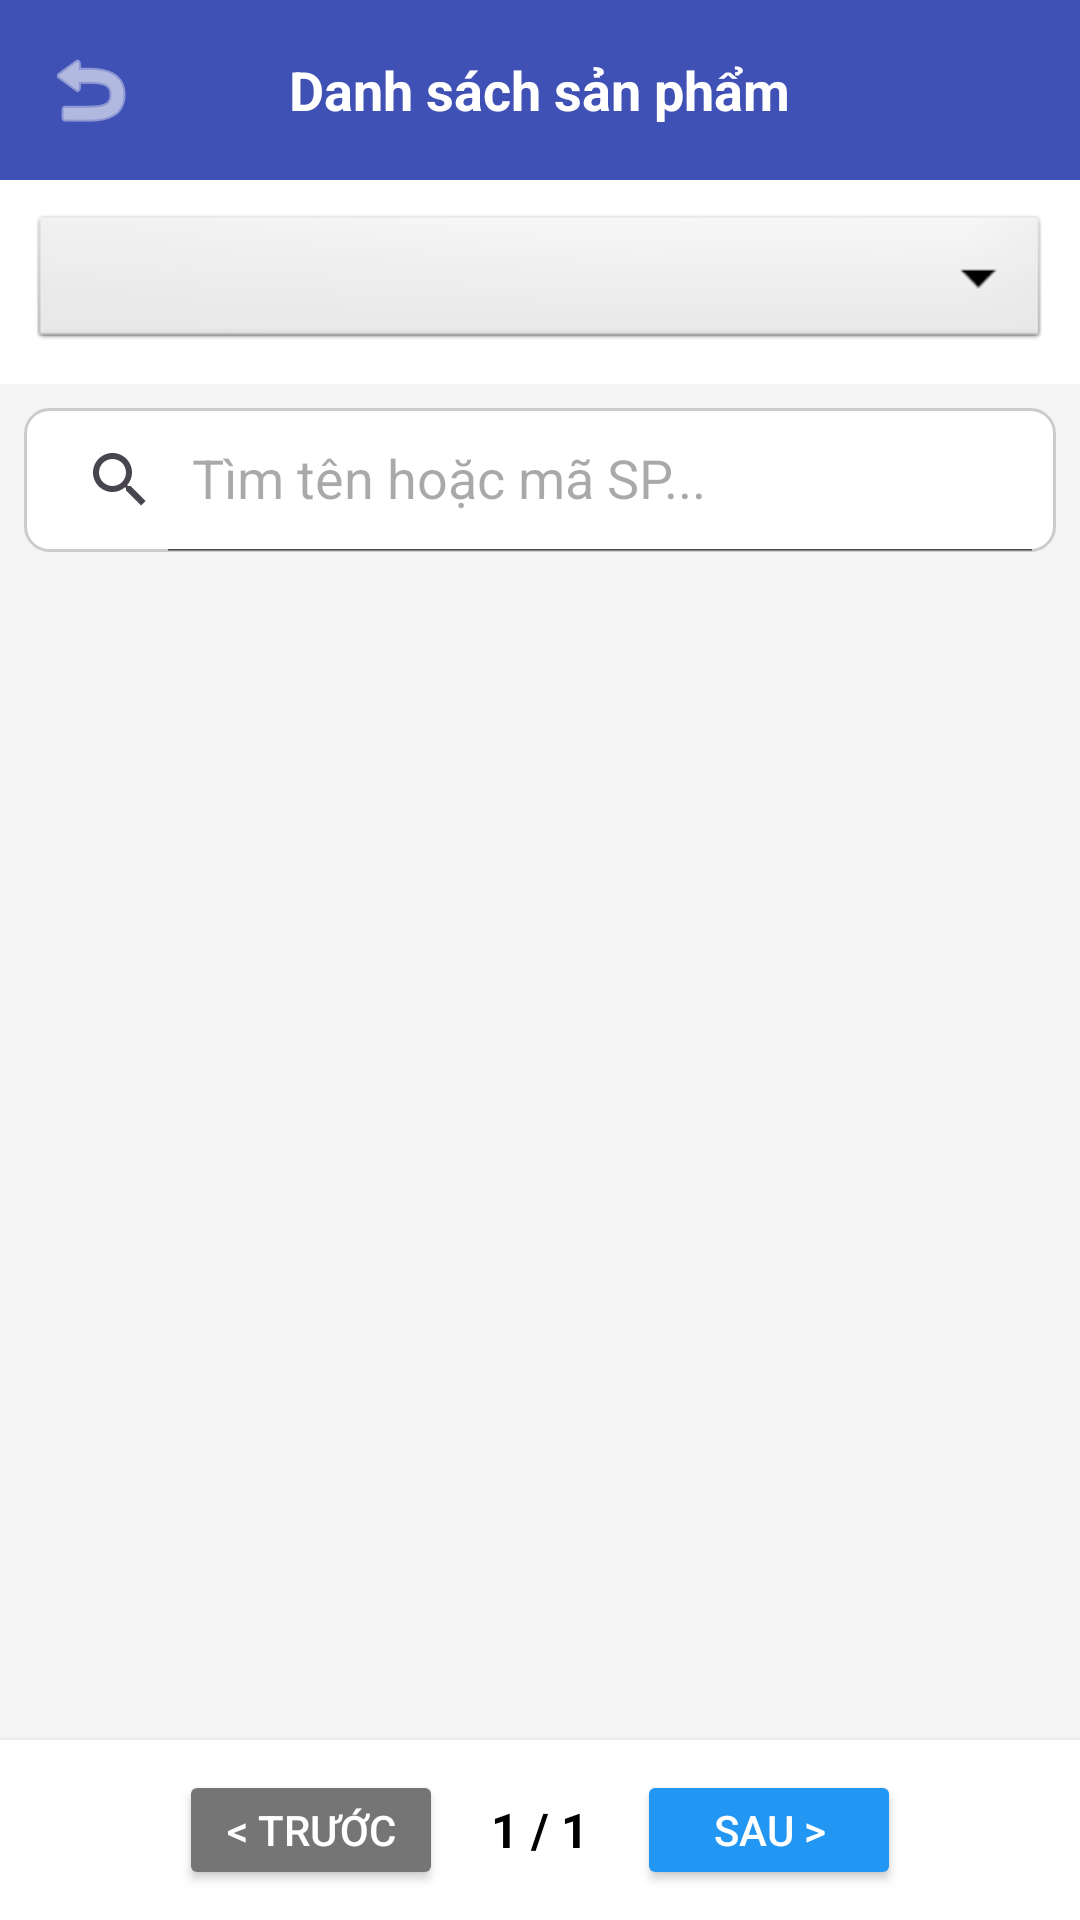

Where icons sit on this 1080*1920 app screen, as (x1, y1, x2, y2):
revert: (57, 59, 126, 122)
